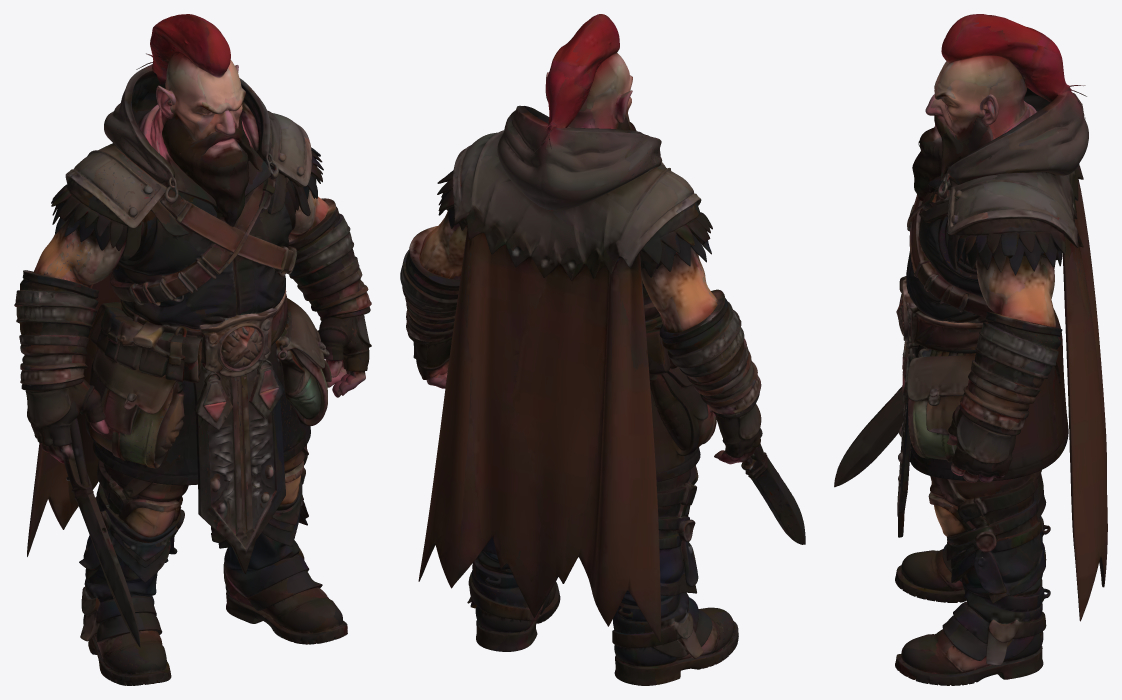
File: npc dwarf.glb
3 views of the same model, side by side, from view 1: azimuth 30°, elevation 25°; view 2: azimuth 150°, elevation 25°; view 3: azimuth 270°, elevation 25° (orthographic).
Visible parts, largest first — view 1: material; view 2: material; view 3: material.
Part boxes in pixels (x1,y1,x2,y2): material: (14,14,371,685); material: (400,14,805,685); material: (834,14,1107,685).
Bounding box in the file's own units: 0.6418 × 1.12 × 0.4494.
1 material, 1 textured.
